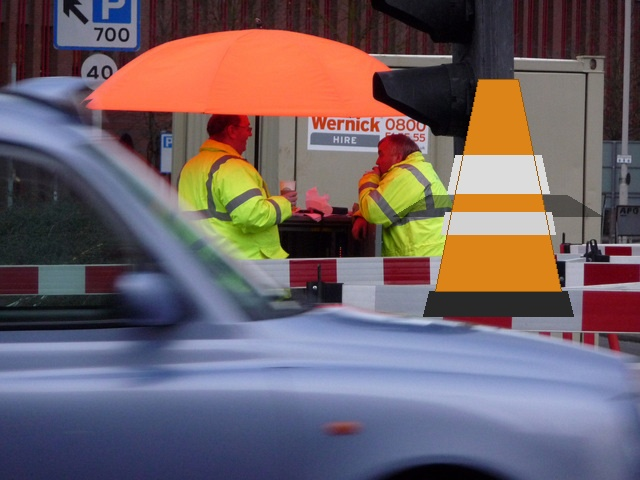traffic-cone: (423, 79, 573, 316)
